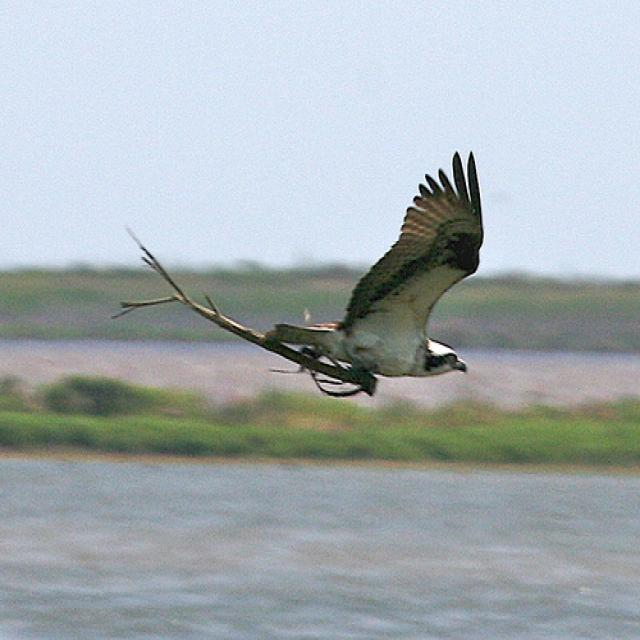bird: (265, 150, 486, 380)
